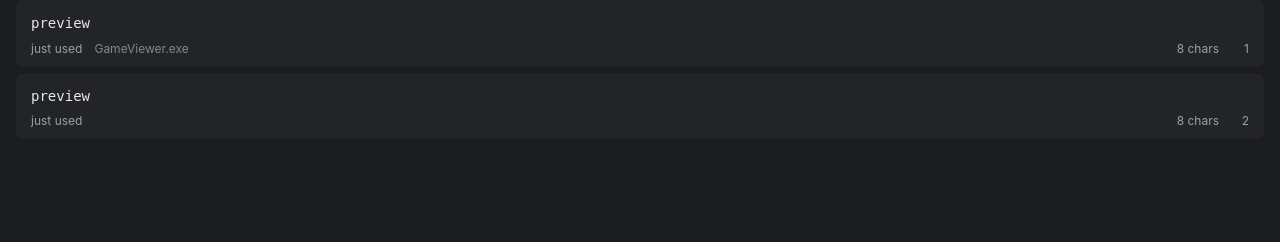
Scenario: ClipboardList › offers ignoring the source app only when the item has one
Later steps or results of the test are not shown.
Right-click the option "preview just used GameViewer.exe 8 chars 1" at [61, 23], box [16, 0, 1264, 67]
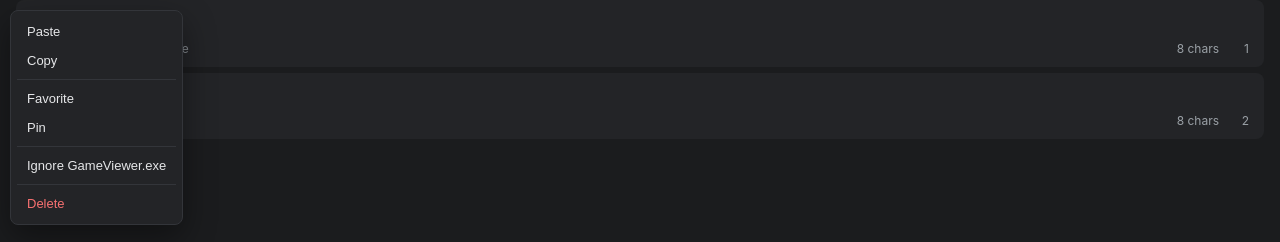
Check: the button "Ignore GameViewer.exe" is shown, box [17, 151, 176, 180]
